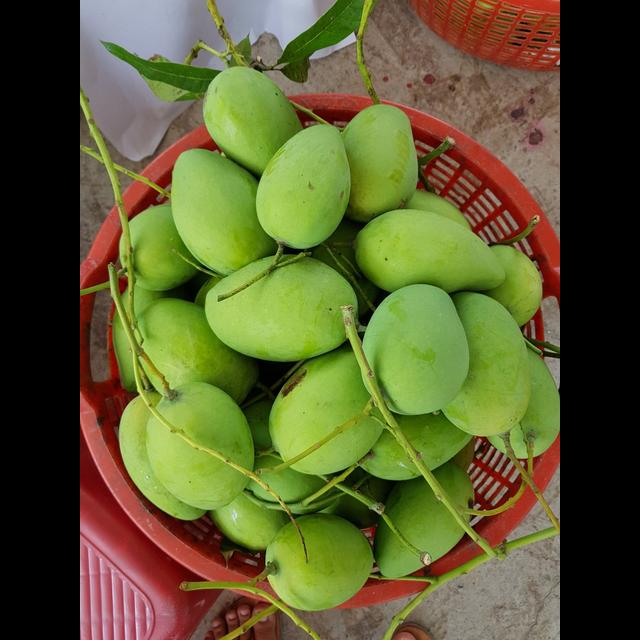xoai: (203, 256, 361, 360), (360, 284, 469, 416), (269, 355, 389, 474), (146, 384, 255, 511), (130, 299, 255, 408), (169, 148, 273, 274), (353, 210, 506, 290), (452, 290, 530, 438), (256, 125, 350, 247), (265, 514, 376, 611), (201, 66, 299, 169), (376, 479, 473, 577), (341, 105, 418, 215)
